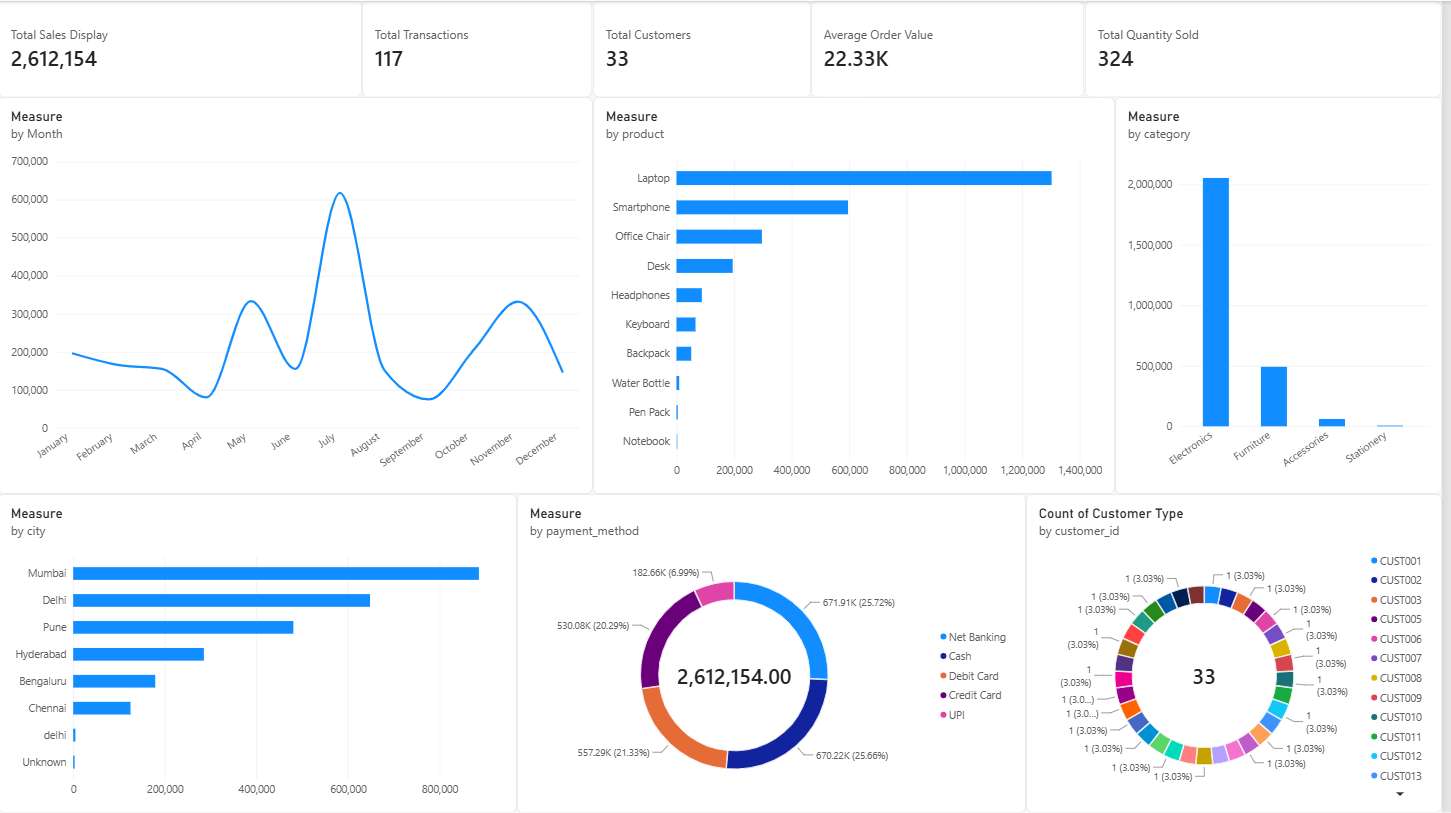

What the dashboard file says about the page in this screenshot:
{"tool":"powerbi","page":{"name":"Page 1","canvas":[1920,1080],"ordinal":0},"visuals":[{"type":"cardVisual","fields":{"Data":["sales_analysis_dataset.Total Sales Display"]},"box":[0,0,484.8,128.2],"z":0},{"type":"cardVisual","fields":{"Data":["sales_analysis_dataset.Total Transactions"]},"box":[484.8,0,306.5,128.2],"z":1000},{"type":"cardVisual","fields":{"Data":["sales_analysis_dataset.Total Customers"]},"box":[791.3,0,290.3,128.2],"z":2000},{"type":"lineChart","fields":{"Category":["sales_analysis_dataset.order_date.Variation.Date Hierarchy.Year","sales_analysis_dataset.order_date.Variation.Date Hierarchy.Month"],"Y":["sales_analysis_dataset.Measure"]},"box":[0,127.7,791.4,528],"z":3000},{"type":"clusteredBarChart","fields":{"Category":["sales_analysis_dataset.product"],"Y":["sales_analysis_dataset.Measure"]},"box":[791.4,127.7,694.3,528],"z":4000},{"type":"cardVisual","fields":{"Data":["sales_analysis_dataset.Average Order Value"]},"box":[1081.6,0,364,128.2],"z":5000},{"type":"cardVisual","fields":{"Data":["sales_analysis_dataset.Total Quantity Sold"]},"box":[1445.5,0,474.5,128.2],"z":6000},{"type":"clusteredBarChart","fields":{"Category":["sales_analysis_dataset.city"],"Y":["sales_analysis_dataset.Measure"]},"box":[0,655.7,690.3,424.3],"z":7000},{"type":"donutChart","fields":{"Category":["sales_analysis_dataset.payment_method"],"Y":["sales_analysis_dataset.Measure"]},"box":[690.3,655.7,677,424.3],"z":8000},{"type":"clusteredColumnChart","fields":{"Category":["sales_analysis_dataset.category"],"Y":["sales_analysis_dataset.Measure"]},"box":[1485,128,435,528],"z":9000},{"type":"donutChart","fields":{"Series":["Customer Summary.customer_id"],"Y":["CountNonNull(Customer Summary.Customer Type)"]},"box":[1367.3,655.7,553.3,424.3],"z":10000}]}

Visuals, with their boxes in screenshot pixels (x1, y1, x2, y2), scaled from the page's 1920x1080 canvas onto the 1451x813 screenshot:
cardVisual - sales_analysis_dataset.Total Sales Display: 0/0/366/97
cardVisual - sales_analysis_dataset.Total Transactions: 366/0/598/97
cardVisual - sales_analysis_dataset.Total Customers: 598/0/817/97
lineChart - sales_analysis_dataset.order_date.Variation.Date Hierarchy.Year x sales_analysis_dataset.order_date.Variation.Date Hierarchy.Month: 0/96/598/494
clusteredBarChart - sales_analysis_dataset.product x sales_analysis_dataset.Measure: 598/96/1123/494
cardVisual - sales_analysis_dataset.Average Order Value: 817/0/1092/97
cardVisual - sales_analysis_dataset.Total Quantity Sold: 1092/0/1450/97
clusteredBarChart - sales_analysis_dataset.city x sales_analysis_dataset.Measure: 0/494/522/812
donutChart - sales_analysis_dataset.payment_method x sales_analysis_dataset.Measure: 522/494/1033/812
clusteredColumnChart - sales_analysis_dataset.category x sales_analysis_dataset.Measure: 1122/96/1450/494
donutChart - Customer Summary.customer_id x CountNonNull(Customer Summary.Customer Type): 1033/494/1450/812
